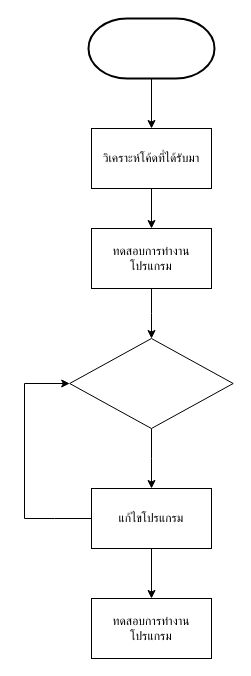
The diagram is 251 pixels wide and 676 high, and some of its shapes have lost their labels. The shapes that lost their labels are listed below. From the top down, each one's centre as x and y in pixels, then its label:
[151,48]: Start
[151,383]: การทำงานเป็นไปตามที่ต้องการ
